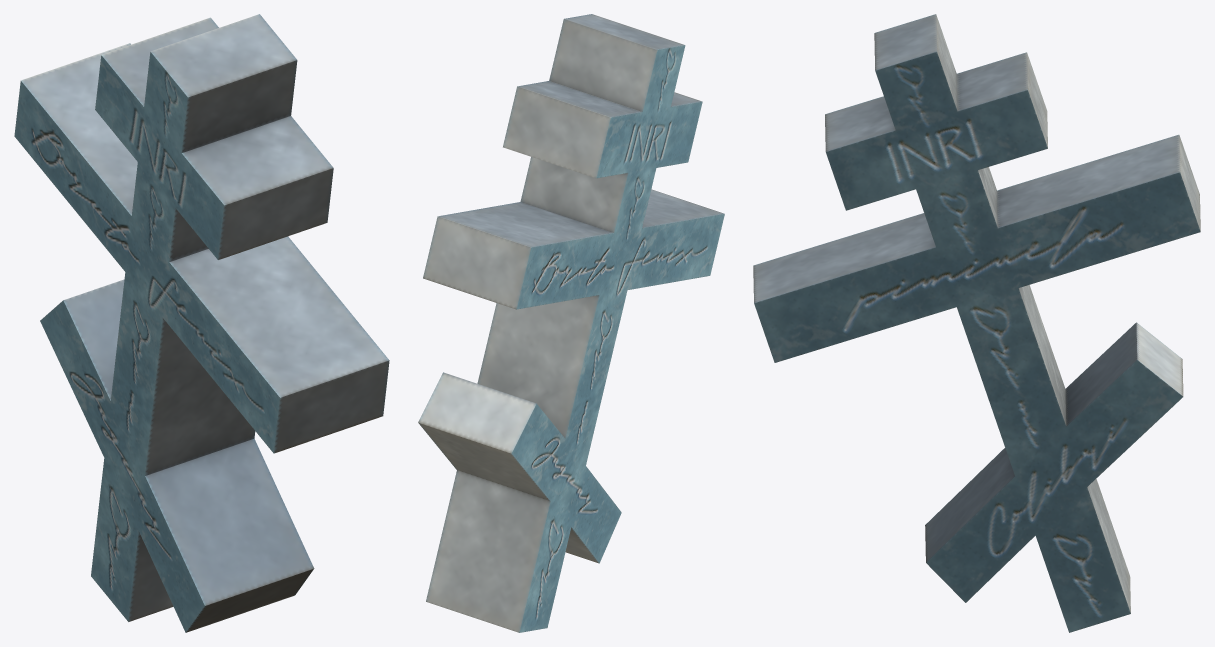
3 views of the same model, side by side, from view 1: azimuth 30°, elevation 25°; view 2: azimuth 150°, elevation 25°; view 3: azimuth 270°, elevation 25° (orthographic). The views are drawn at different scales.
Parts seen in each view (by area): view 1: Cruz_Orto_Cube.011; view 2: Cruz_Orto_Cube.011; view 3: Cruz_Orto_Cube.011.
Boxes of the visible parts, x1,y1,x2,y2 form: Cruz_Orto_Cube.011: (14,14,389,632); Cruz_Orto_Cube.011: (418,14,724,632); Cruz_Orto_Cube.011: (753,14,1200,632).
Size of the model in its own units: 0.7107 by 2.69 by 1.93.
